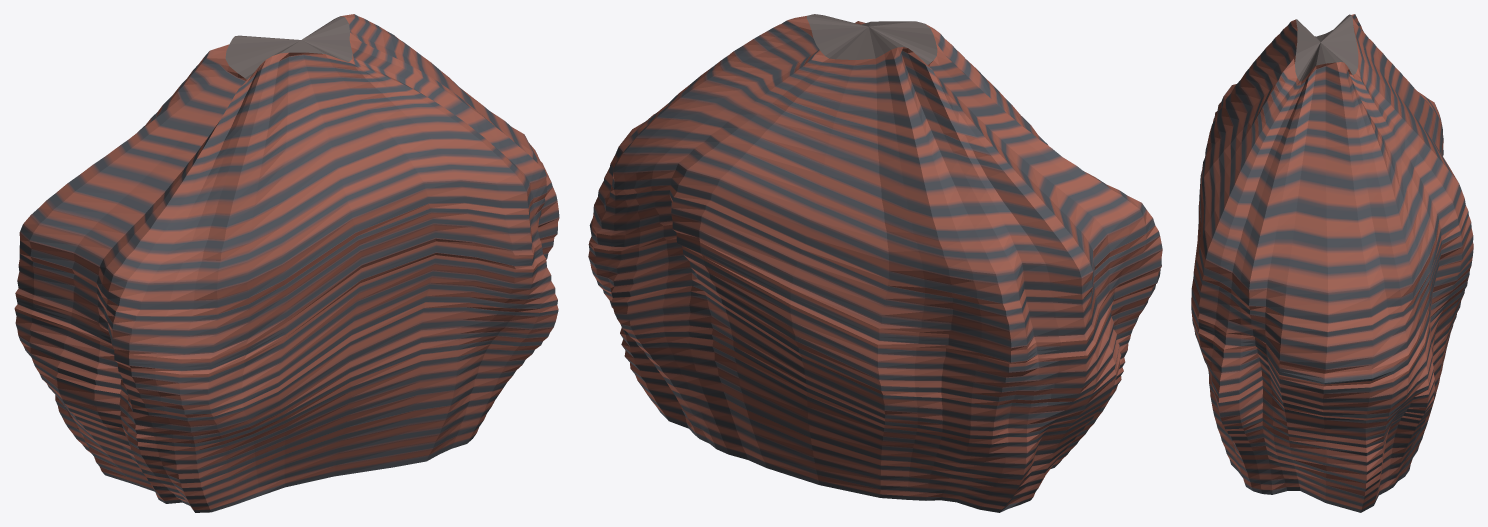
The picture shows the model from 3 angles, left to right: view 1: azimuth 30°, elevation 25°; view 2: azimuth 150°, elevation 25°; view 3: azimuth 270°, elevation 25°; orthographic projection. The views are drawn at different scales.
Visible parts, largest first — view 1: banded-iron-formation-open-mesh-surface; view 2: banded-iron-formation-open-mesh-surface; view 3: banded-iron-formation-open-mesh-surface.
Boxes of the visible parts, bbox=[...] form: banded-iron-formation-open-mesh-surface: bbox=[14, 14, 559, 512]; banded-iron-formation-open-mesh-surface: bbox=[588, 14, 1162, 512]; banded-iron-formation-open-mesh-surface: bbox=[1191, 14, 1473, 512].
Bounding box in the file's own units: 0.8663 × 0.672 × 0.4413.
Materials: 2 (1 with a texture image).
